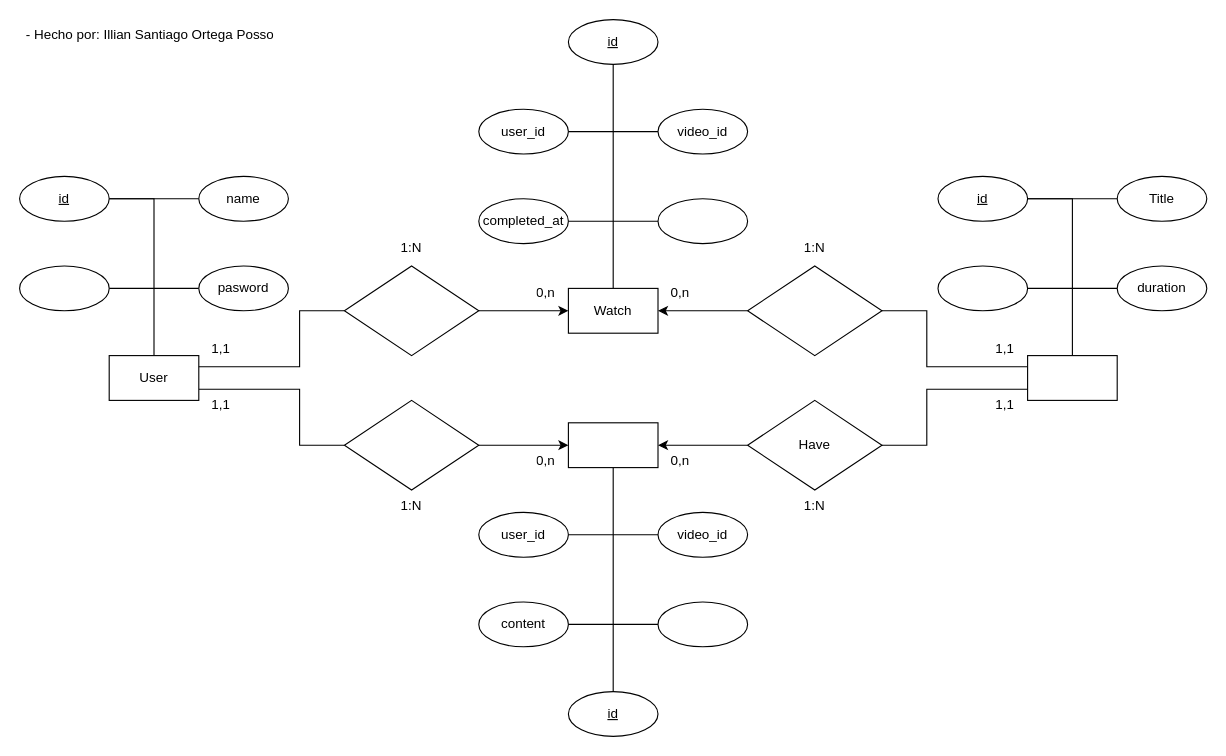
Image size: 1226x756. Some labels were removed from this diagram. The shapes that lost their labels are listed below. From the top down, each one's centre as x and y in pixels, then its label:
pixel 702 221: timestamps
pixel 63 288: email
pixel 982 288: synopsis
pixel 411 310: Does
pixel 814 310: get
pixel 1071 377: Video
pixel 411 444: writes
pixel 612 445: Comment
pixel 702 624: approved
